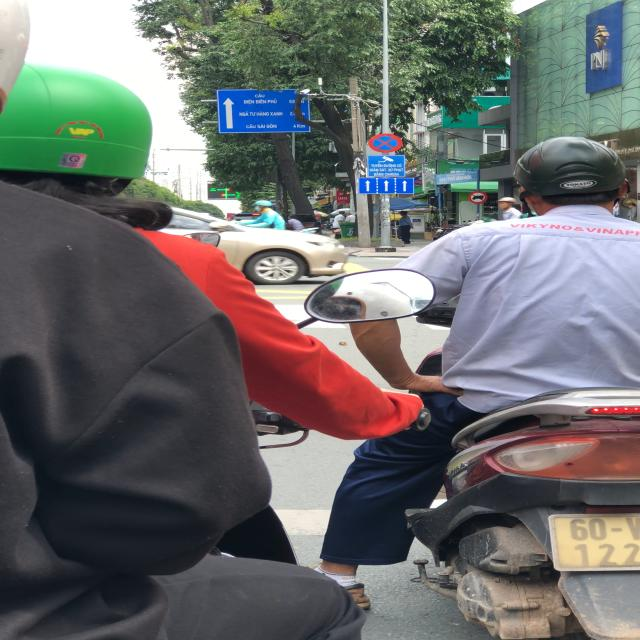Bien bao cam dung xe va do xe: (365, 131, 403, 154)
